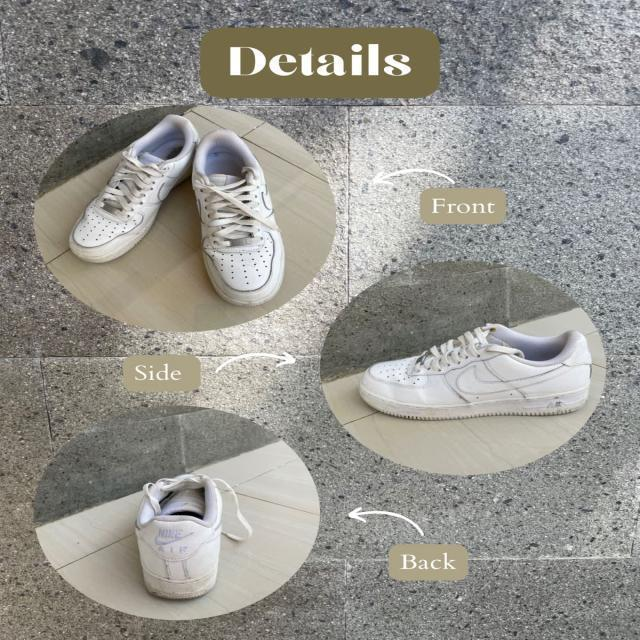nike original air force: (354, 319, 602, 428), (62, 118, 199, 269), (185, 124, 284, 308), (128, 474, 230, 608)
